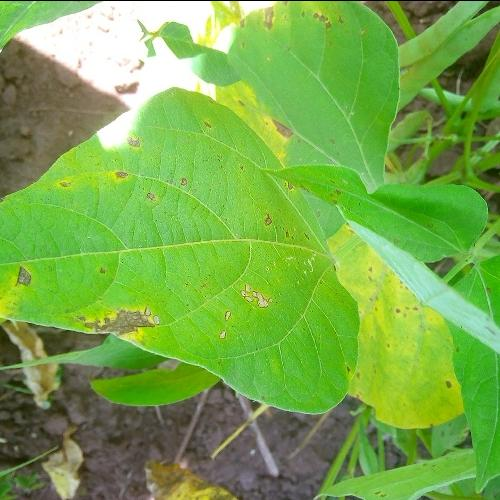hawar: (48, 121, 173, 215), (209, 250, 284, 334), (76, 289, 168, 350), (0, 252, 46, 325)
mozaik: (349, 266, 458, 412)
